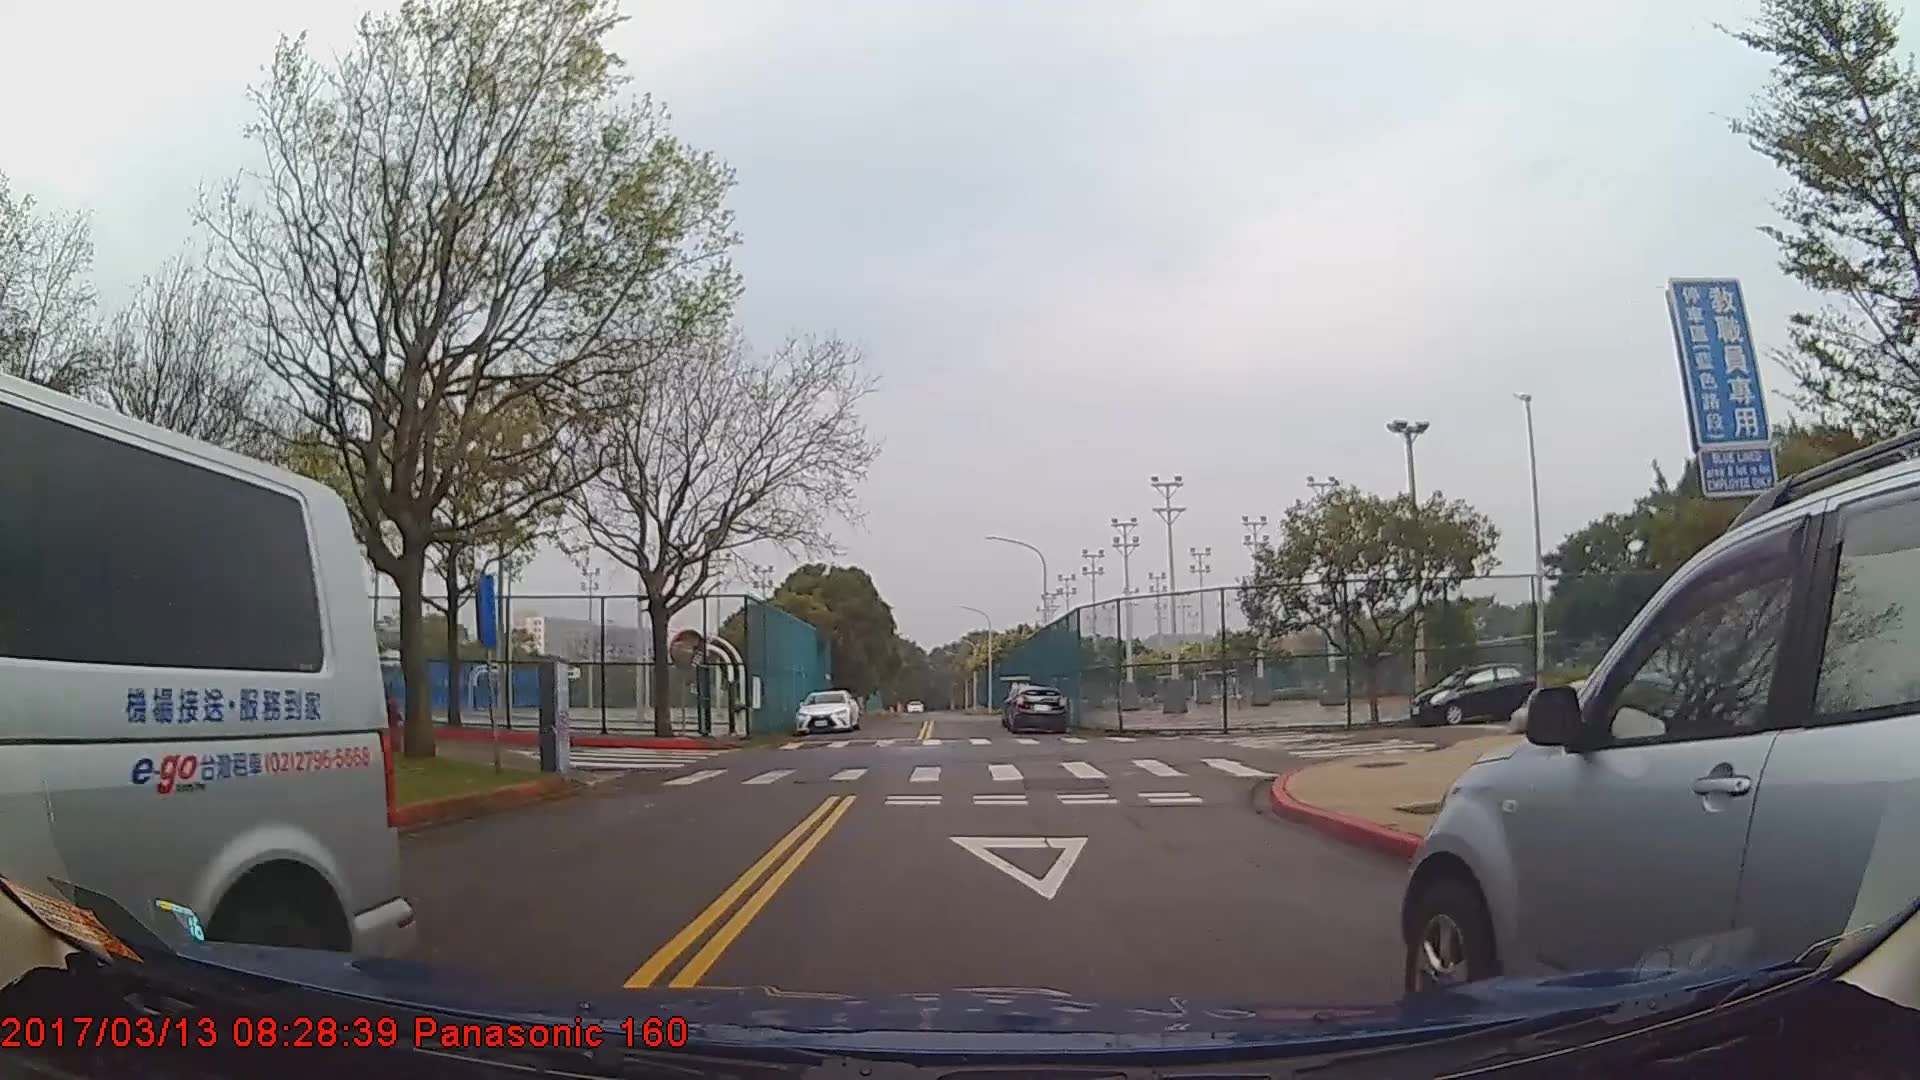vehicle: (1398, 452, 1920, 1042), (0, 357, 404, 1044), (1410, 663, 1539, 727), (1005, 682, 1069, 735), (795, 687, 858, 733)
